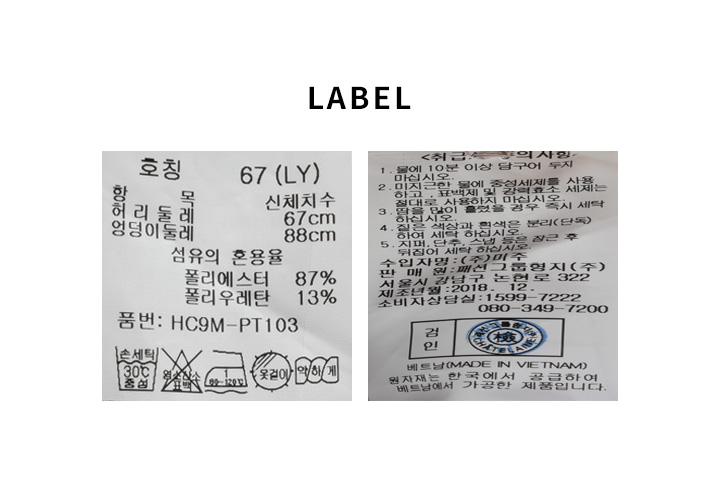KR_gentle_wring: (293, 354, 343, 388)
KR_hand_wash_30_neutral: (113, 344, 159, 394)
KR_hang_dry_in_shade: (249, 349, 295, 394)
KR_iron_low_temp_with_cloth: (205, 346, 249, 395)
KR_no_bleach: (159, 346, 203, 396)
